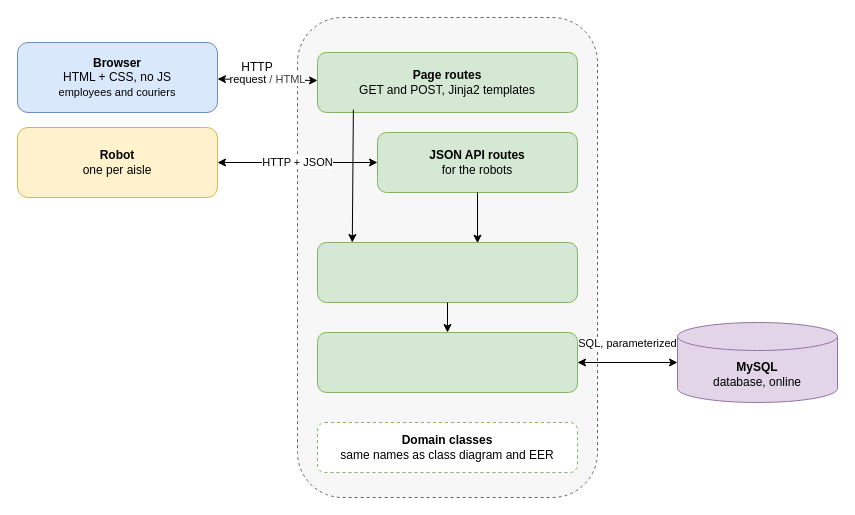
Image size: 855x515. Some labels were removed from this diagram. Each missing label, with the box of its shape:
Python backend (Flask): (296, 16, 598, 498)
Repositories the only place with SQL: (316, 332, 578, 392)
Services business logic, the 5 processes: (316, 242, 578, 302)
